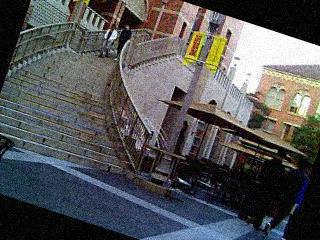Escaleras: (0, 36, 161, 186), (80, 22, 181, 85)
